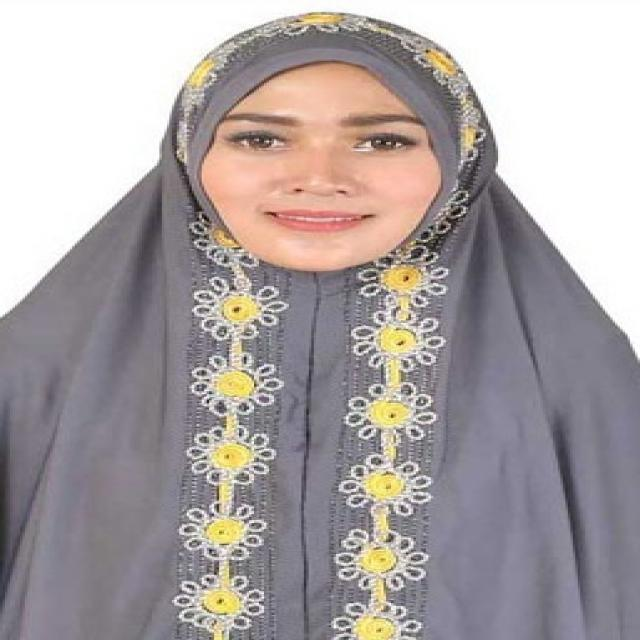head: (187, 14, 479, 286)
